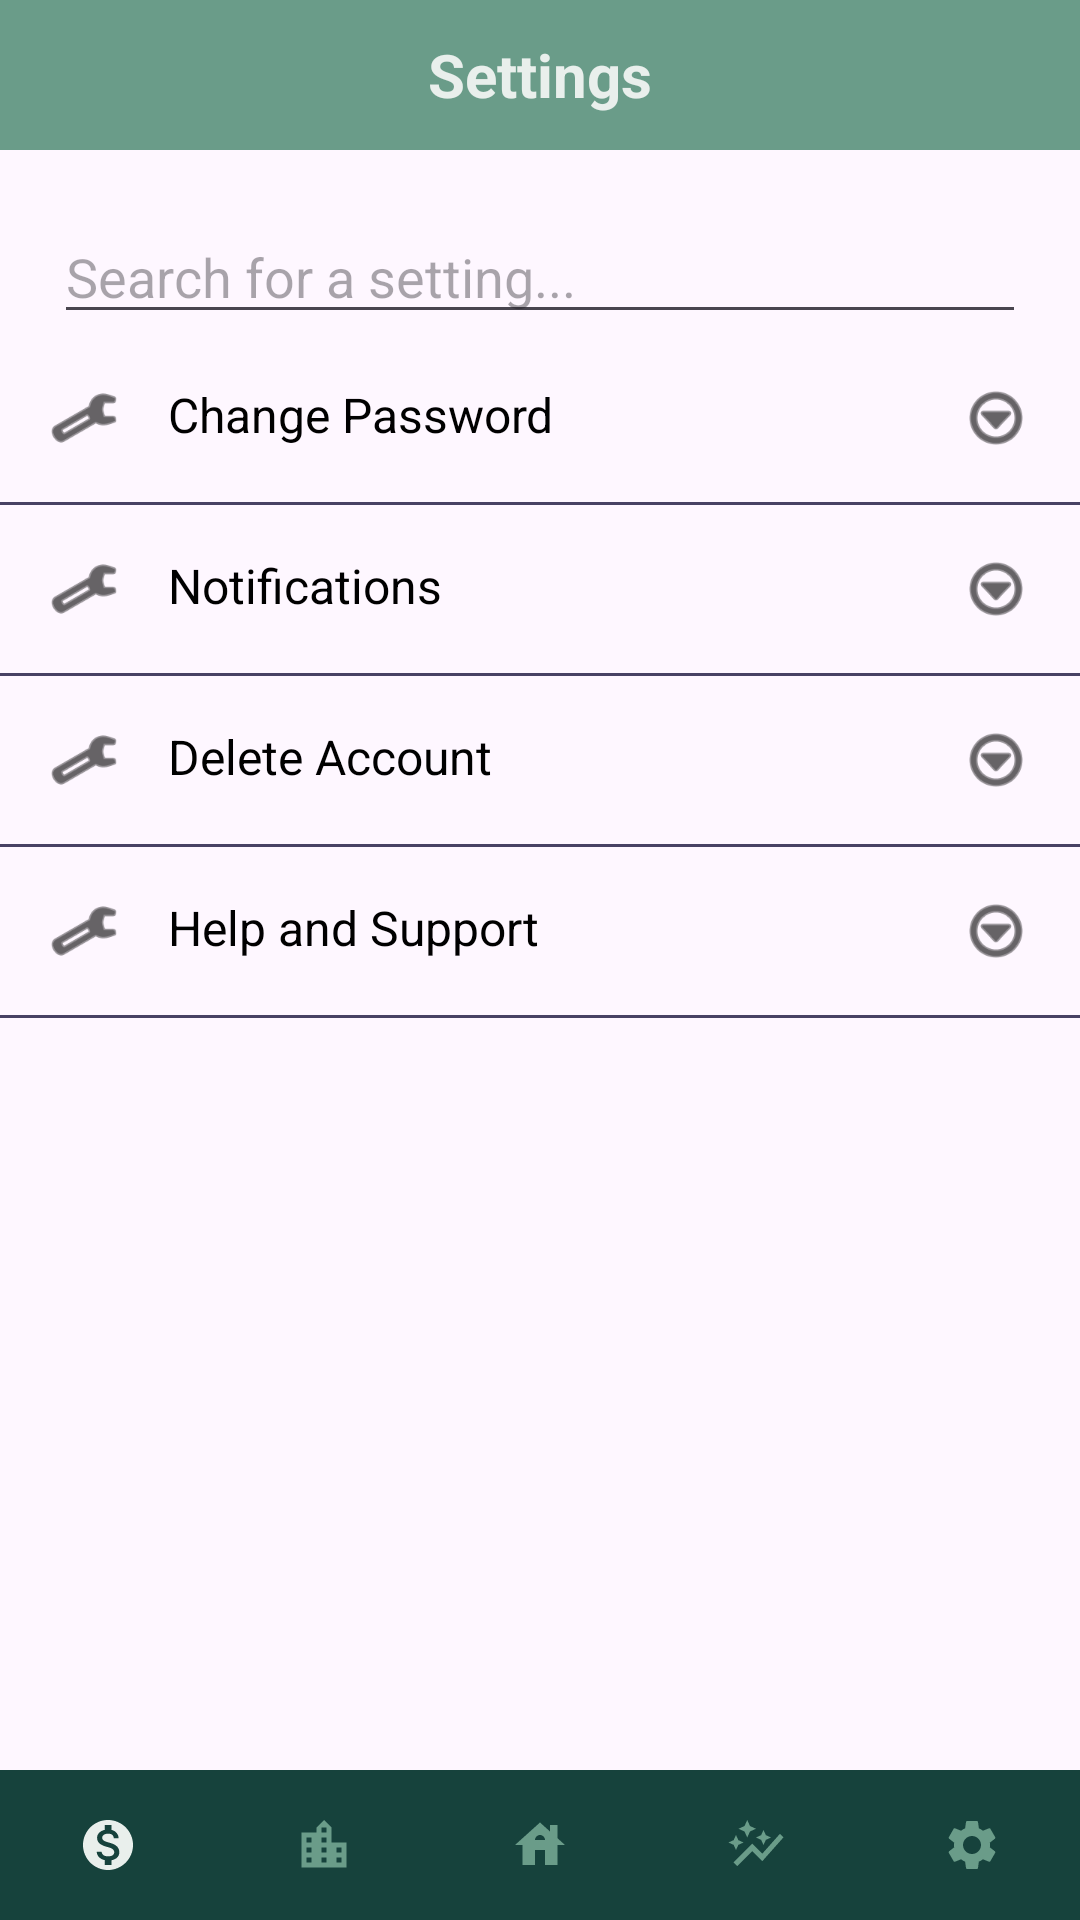

Screen size 1080×1920. Icon name, then its center in pixels as (x=x, y=y):
manage: (x=83, y=418), (x=83, y=589), (x=83, y=760), (x=83, y=931)
more: (x=996, y=418), (x=996, y=589), (x=996, y=760), (x=996, y=931)
